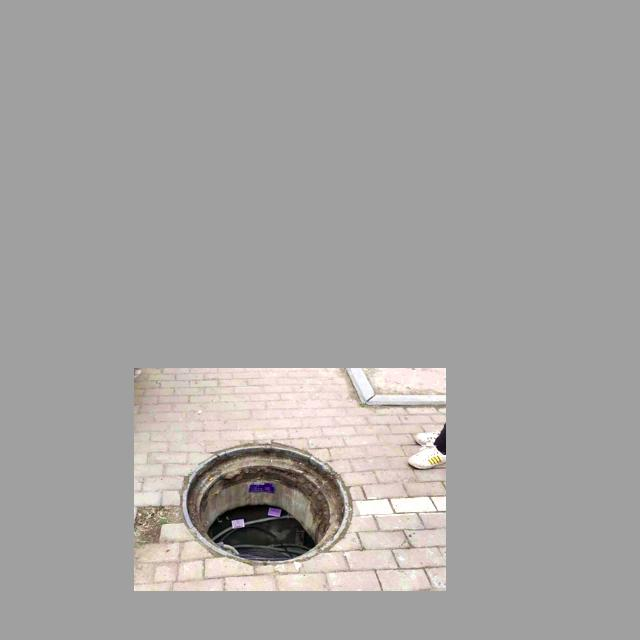lose: (180, 439, 354, 569)
